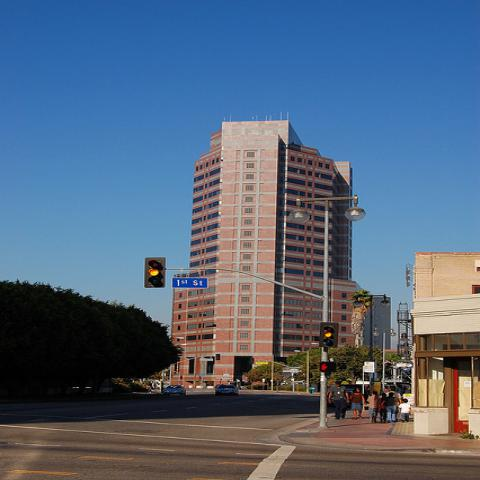car: (214, 384, 240, 395), (164, 385, 186, 396)
